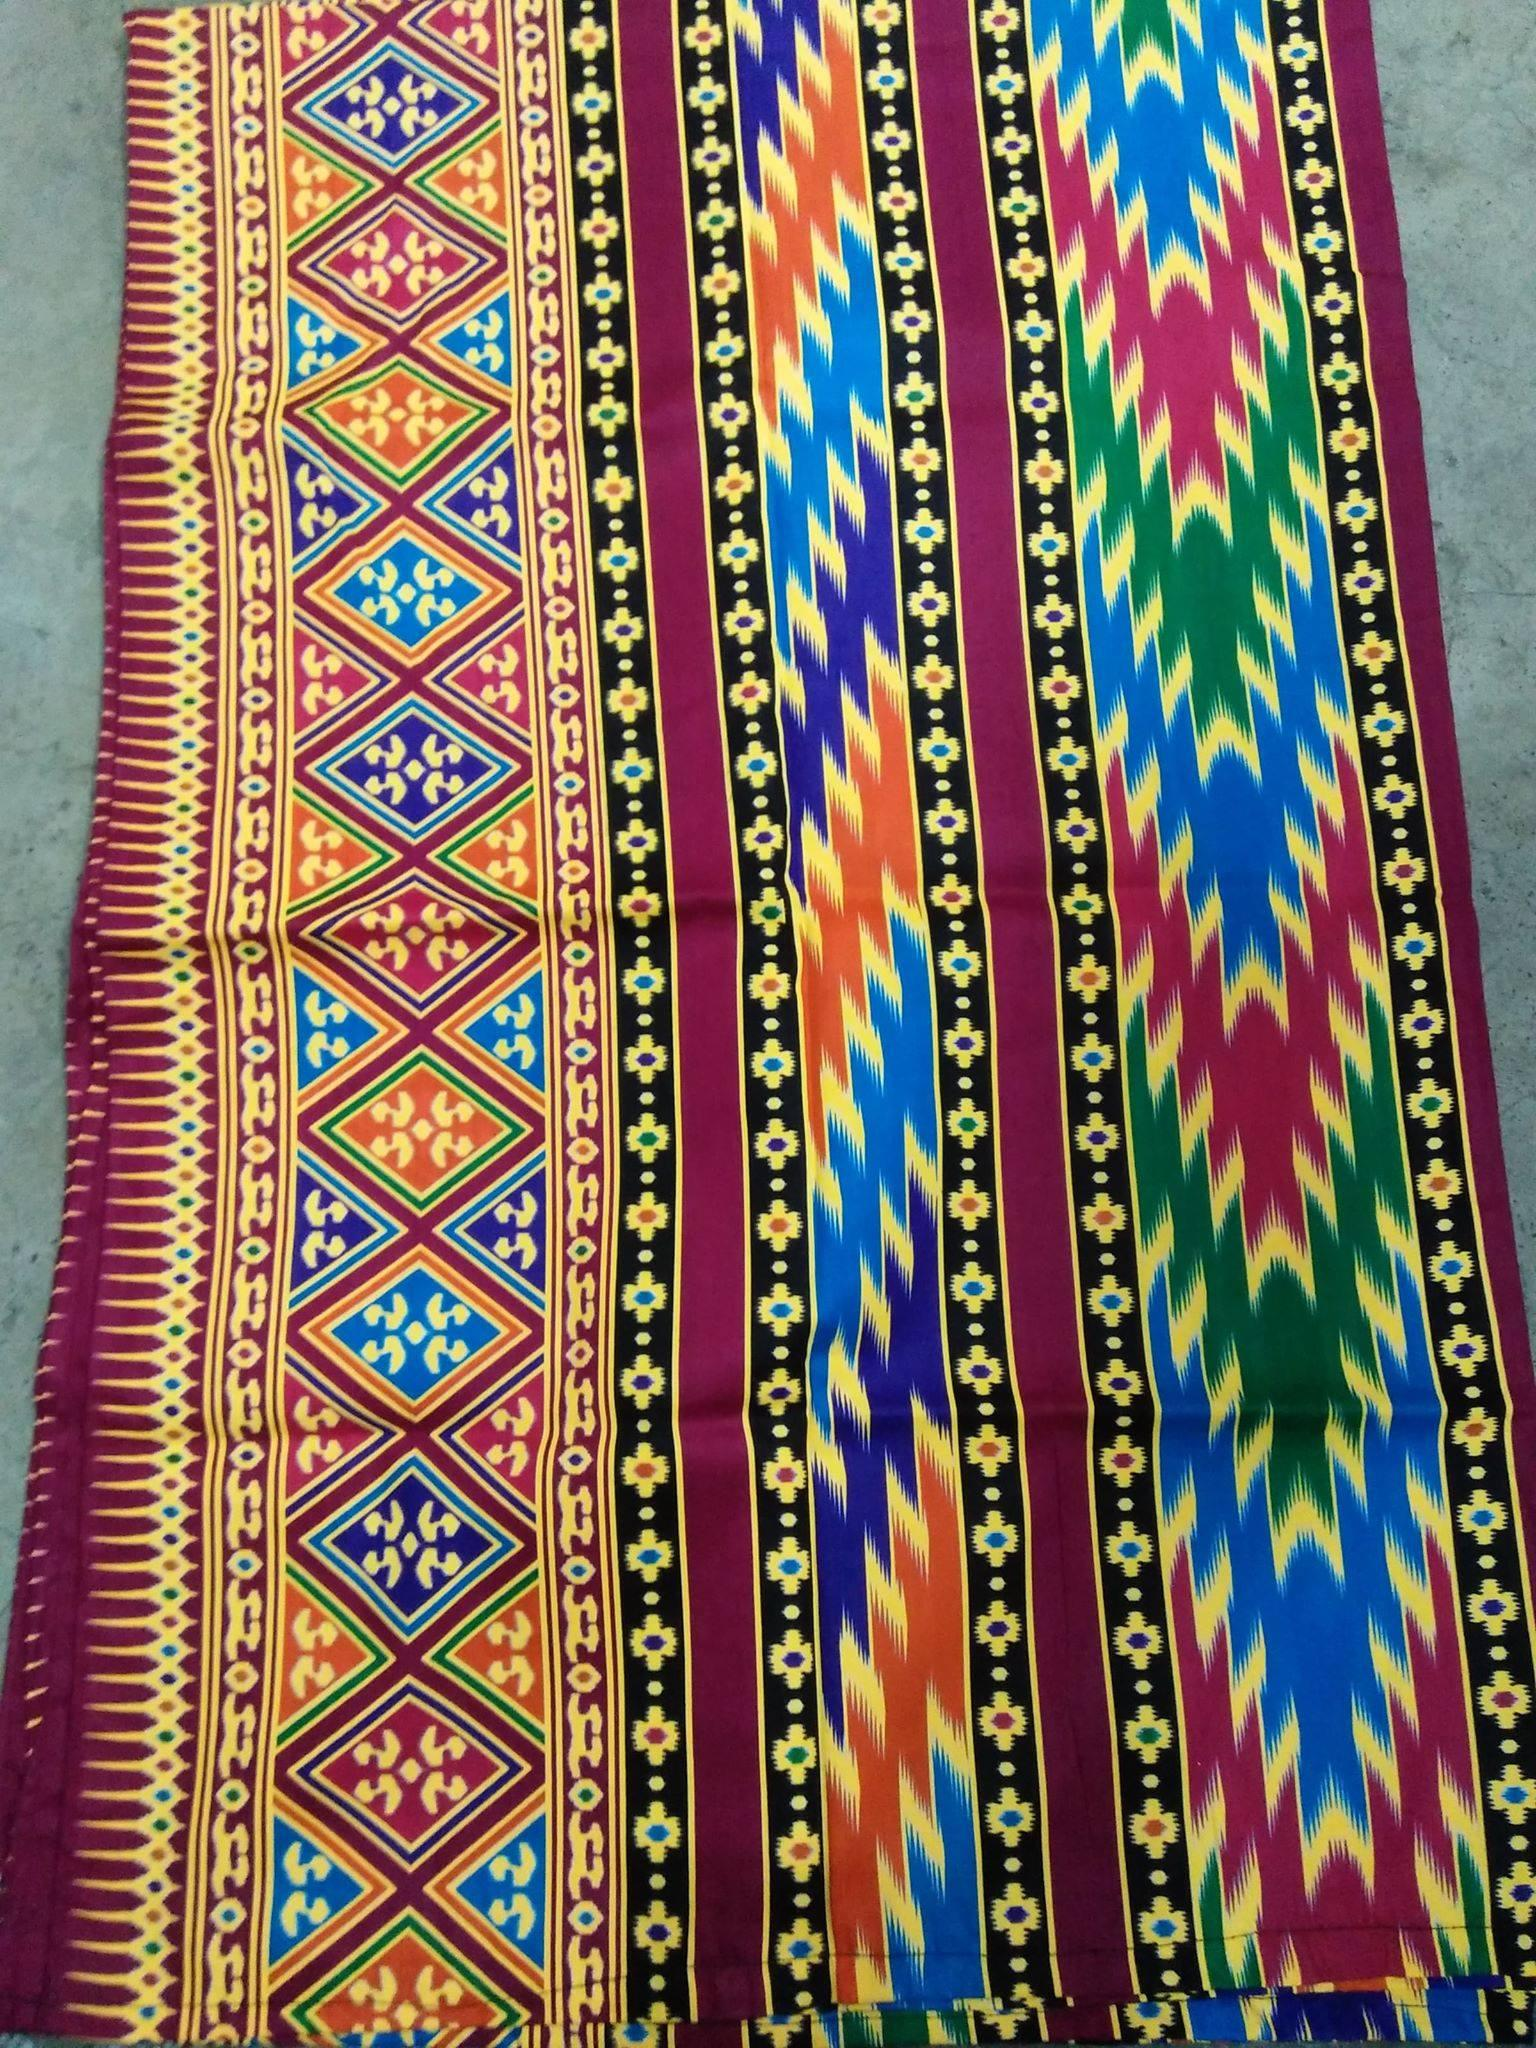malong: (100, 0, 1536, 2048)
